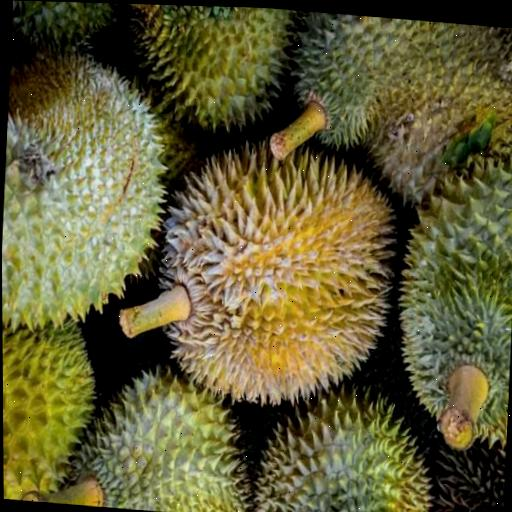rot: (91, 110, 420, 430)
